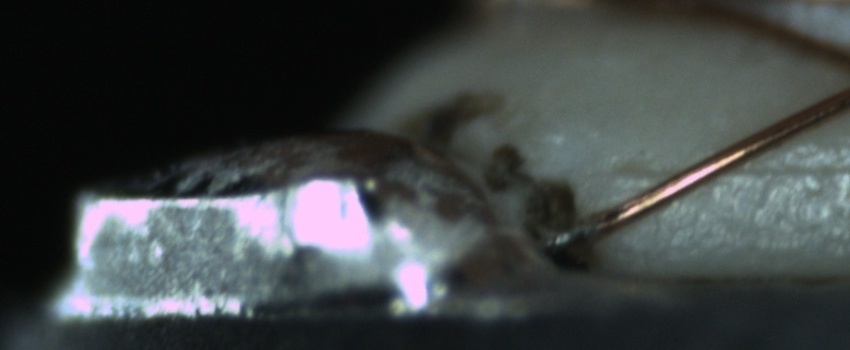DL: (620, 142, 849, 198)
TS: (540, 214, 598, 252)
